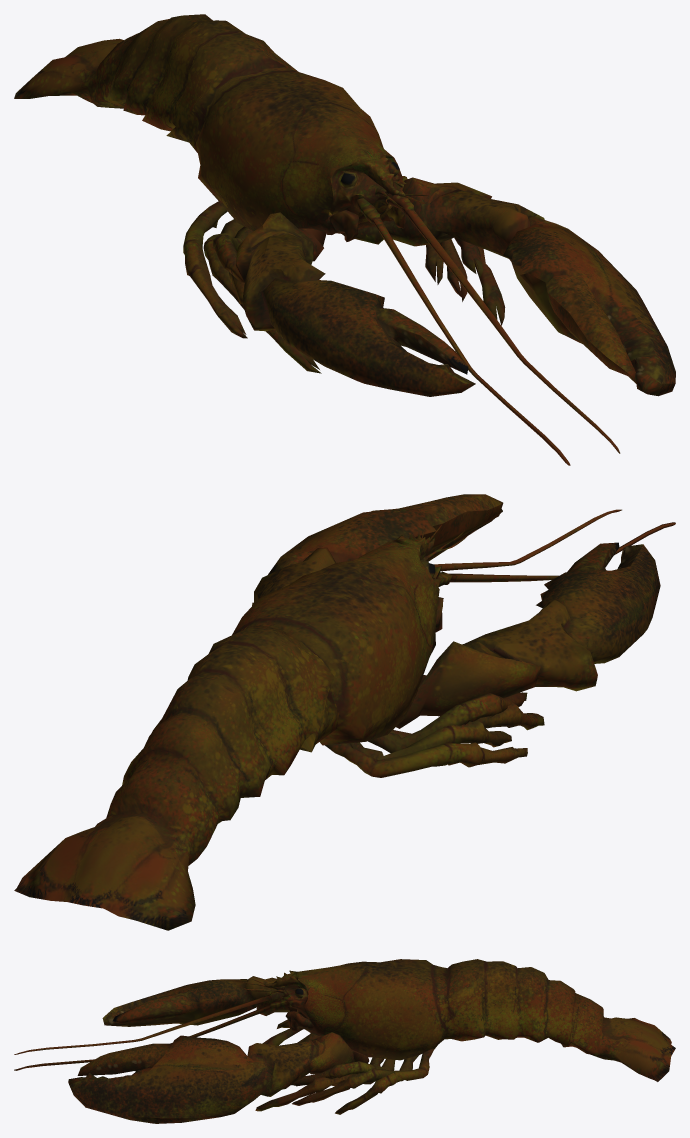
File: LobsterBurned.fbx
3 views of the same model, one above another, from view 1: azimuth 30°, elevation 25°; view 2: azimuth 150°, elevation 25°; view 3: azimuth 270°, elevation 25° (orthographic). The views are drawn at different scales.
Parts seen in each view (by area): view 1: Lobster_Body_low.001, Lobster_Claws_low.001, Lobster_Legs_04_low.001, Lobster_Legs_01_low.001, Lobster_Legs_03_low.001, Lobster_Legs_02_low.001; view 2: Lobster_Body_low.001, Lobster_Claws_low.001, Lobster_Legs_04_low.001, Lobster_Legs_02_low.001, Lobster_Legs_03_low.001, Lobster_Legs_01_low.001; view 3: Lobster_Body_low.001, Lobster_Claws_low.001, Lobster_Legs_01_low.001, Lobster_Legs_03_low.001, Lobster_Legs_04_low.001, Lobster_Legs_02_low.001.
Part boxes in pixels (<box>): Lobster_Body_low.001: <box>14,14,620,465</box>; Lobster_Claws_low.001: <box>235,177,675,396</box>; Lobster_Legs_04_low.001: <box>183,176,443,338</box>; Lobster_Legs_01_low.001: <box>229,237,505,373</box>; Lobster_Legs_03_low.001: <box>203,219,467,335</box>; Lobster_Legs_02_low.001: <box>213,226,483,282</box>; Lobster_Body_low.001: <box>14,509,675,930</box>; Lobster_Claws_low.001: <box>252,494,660,728</box>; Lobster_Legs_04_low.001: <box>325,742,527,777</box>; Lobster_Legs_02_low.001: <box>368,692,527,753</box>; Lobster_Legs_03_low.001: <box>350,720,511,759</box>; Lobster_Legs_01_low.001: <box>390,702,544,737</box>; Lobster_Body_low.001: <box>14,959,675,1081</box>; Lobster_Claws_low.001: <box>68,976,369,1123</box>; Lobster_Legs_01_low.001: <box>255,1026,384,1111</box>; Lobster_Legs_03_low.001: <box>292,1033,418,1105</box>; Lobster_Legs_04_low.001: <box>310,1033,433,1114</box>; Lobster_Legs_02_low.001: <box>277,1019,395,1086</box>.
Size of the model in its own units: 111 by 60.67 by 302.
1 material, 1 textured.
